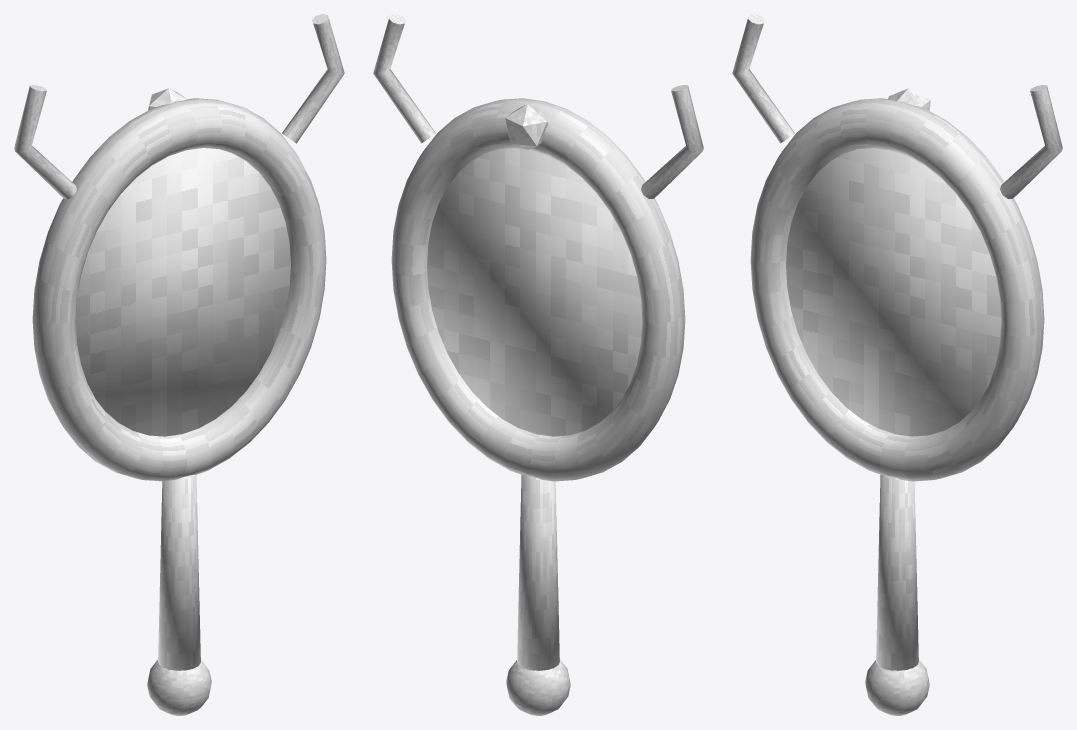
Rendered from demoness.obj.
The picture shows the model from 3 angles, left to right: view 1: azimuth 30°, elevation 25°; view 2: azimuth 150°, elevation 25°; view 3: azimuth 330°, elevation 25°; orthographic projection.
Size of the model in its own units: 0.494 by 0.95 by 0.0987.
